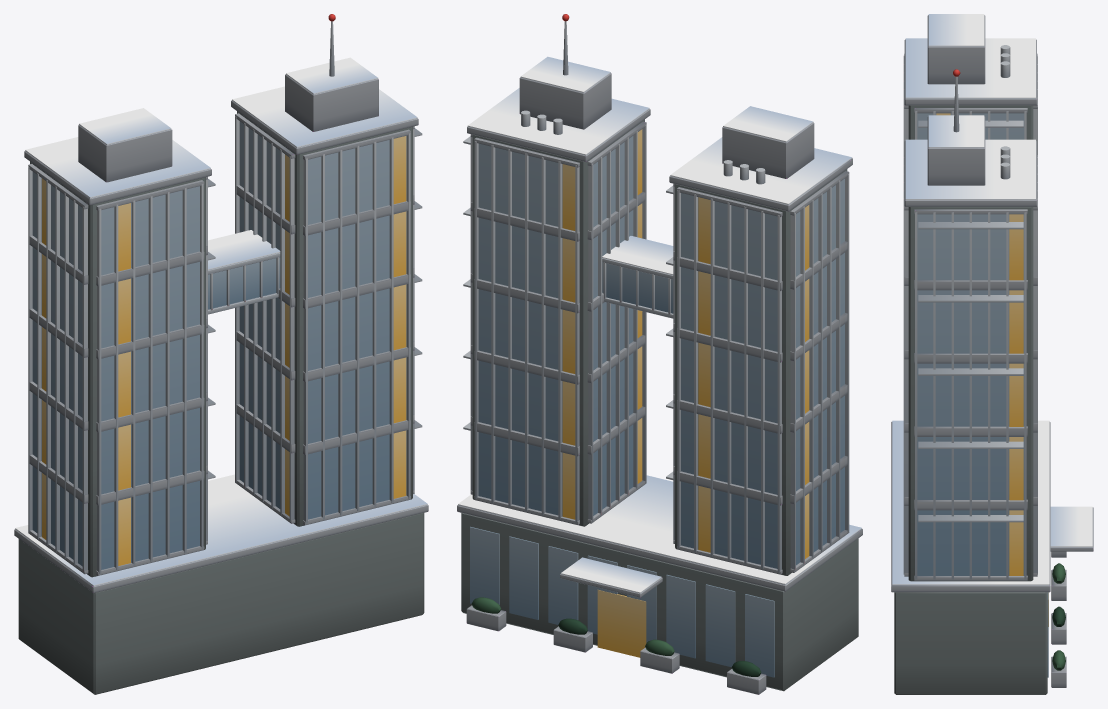
Rendered from ck_tower_twin.fbx.
3 renders of one model, left to right at view 1: azimuth 30°, elevation 25°; view 2: azimuth 150°, elevation 25°; view 3: azimuth 270°, elevation 25°, orthographic. The views are drawn at different scales.
Visible parts, largest first — view 1: ck_tower_twin; view 2: ck_tower_twin; view 3: ck_tower_twin.
Part boxes in pixels (box(x1,y1,x2,y2)): ck_tower_twin: box(14, 14, 428, 694); ck_tower_twin: box(457, 14, 862, 694); ck_tower_twin: box(891, 14, 1093, 694).
Bounding box in the file's own units: 3623 × 6000 × 1847.
